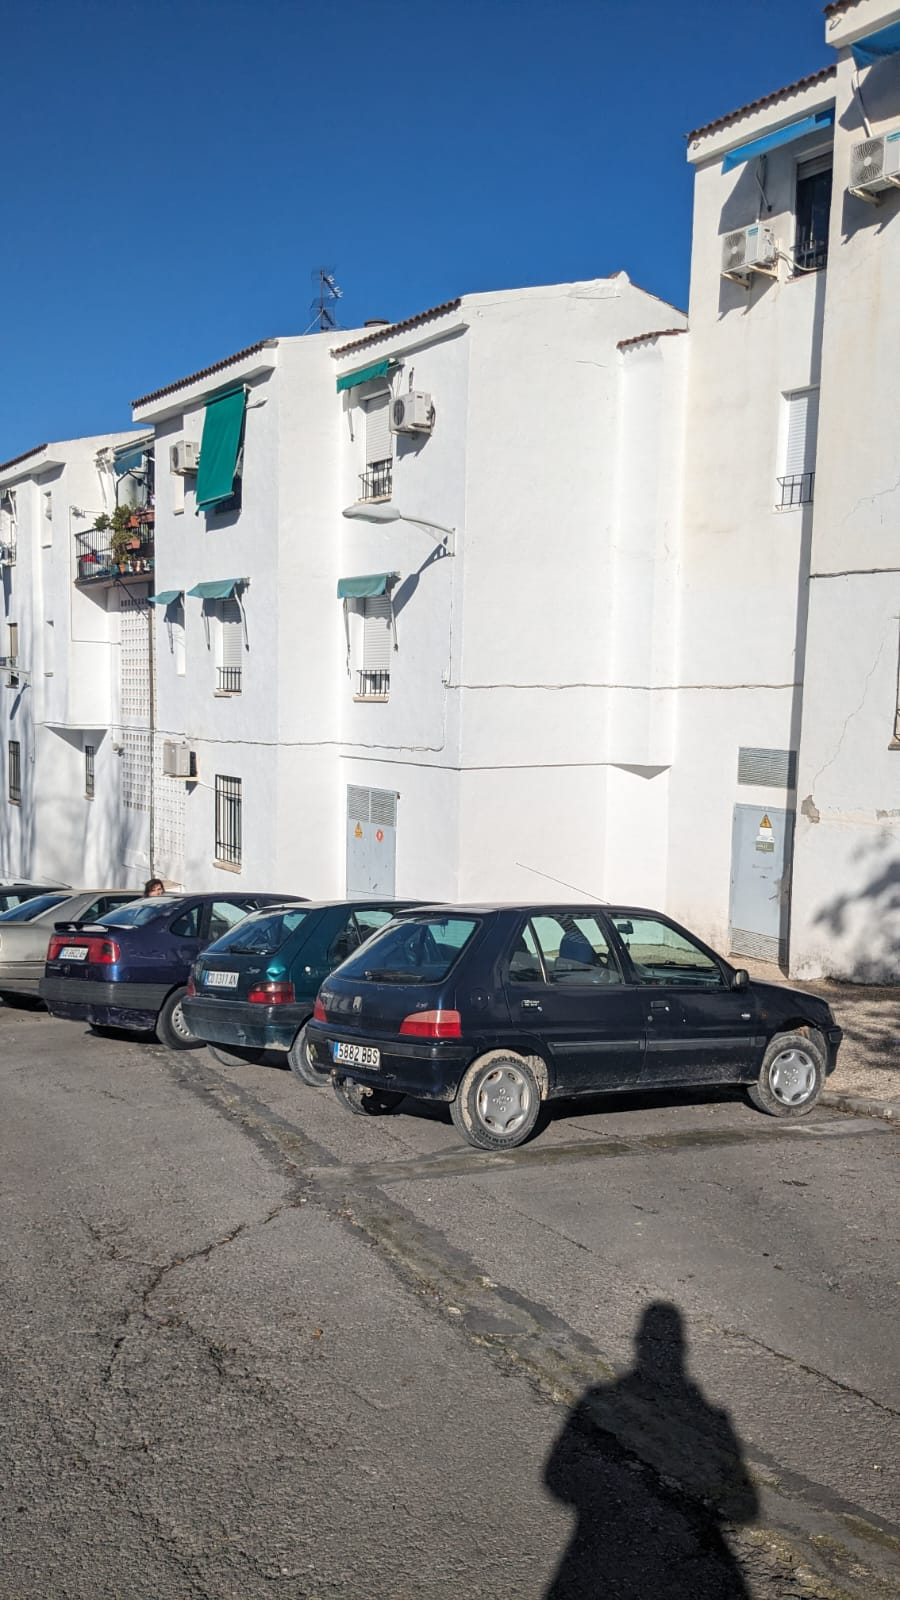car: (316, 901, 857, 1127), (189, 901, 489, 1066), (36, 898, 310, 1034), (4, 875, 125, 1004)
